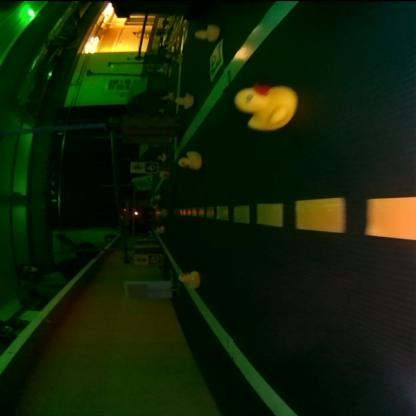Duckie: (234, 85, 296, 129), (178, 152, 202, 168), (196, 27, 218, 41), (178, 271, 196, 288), (175, 93, 193, 109)
QR code: (209, 40, 223, 80)
